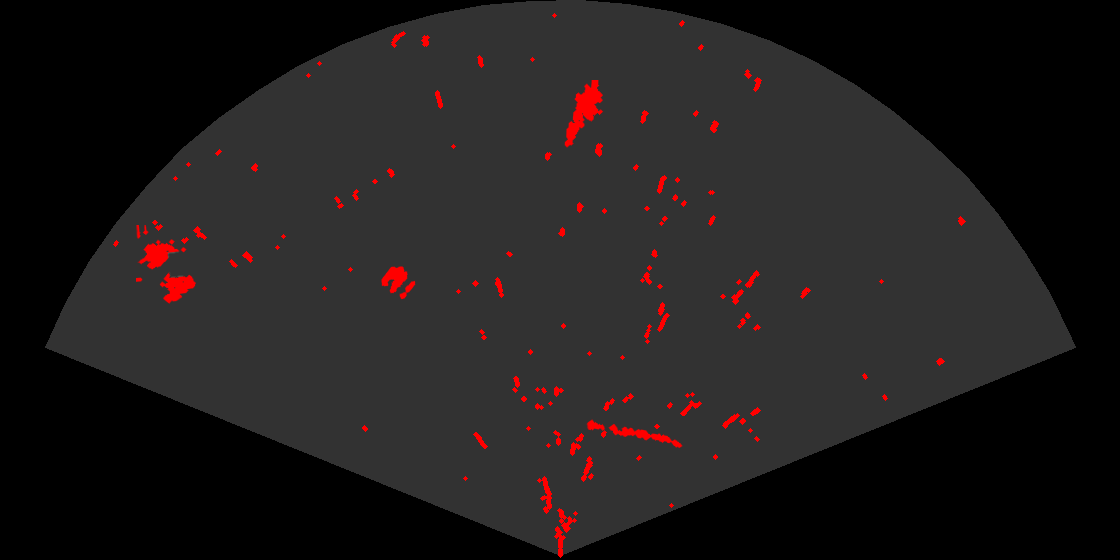ball: (380, 265, 417, 301)
cage: (136, 225, 197, 305)
chain: (584, 418, 684, 449)
frogman: (563, 80, 605, 149)
